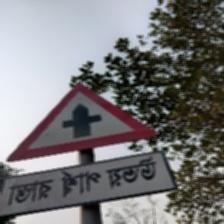Crossroad: (3, 81, 171, 222)
